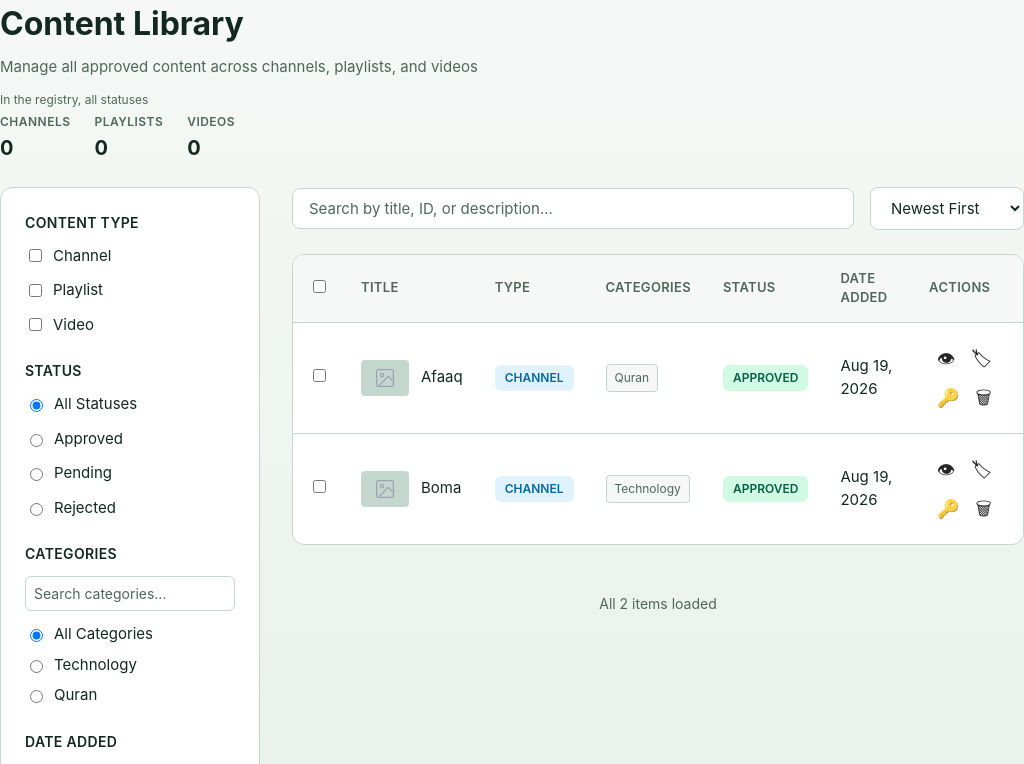
Test: ContentLibraryView — Assign Categories modal › marks a category held by only some of the selected items as indeterminate
The width and height of the screenshot is (1024, 764).
Click the checkbox next to "Afaaq": (320, 376) [313,369,326,382]
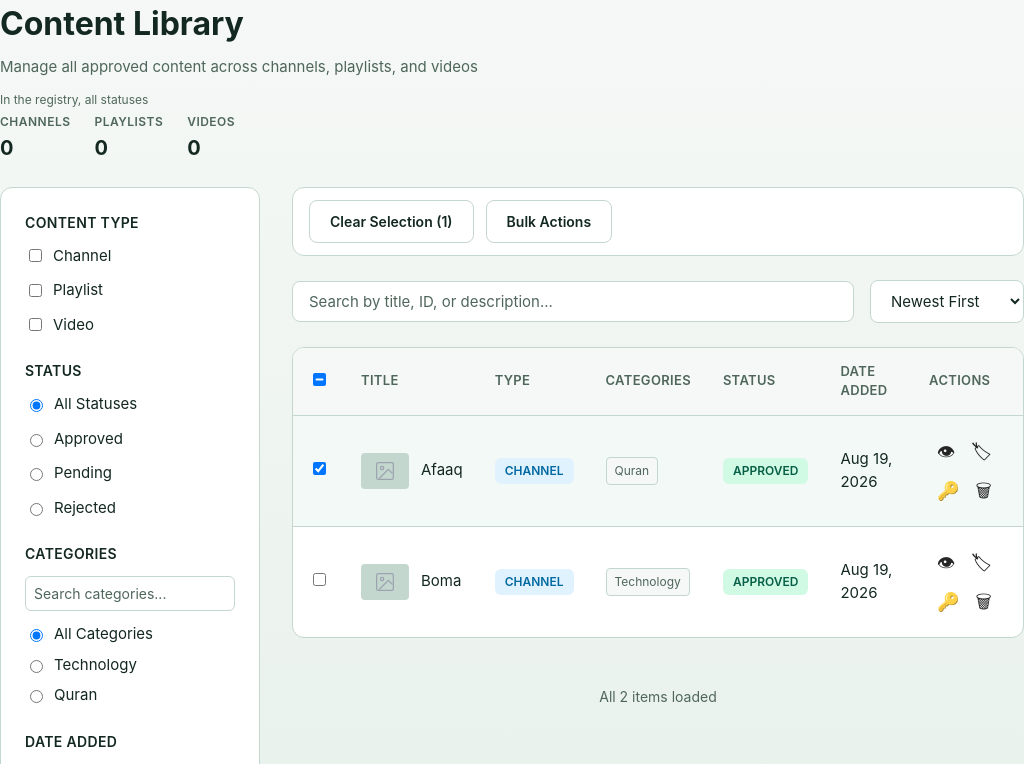
Click the checkbox next to "Boma": (320, 580) [313,573,326,586]
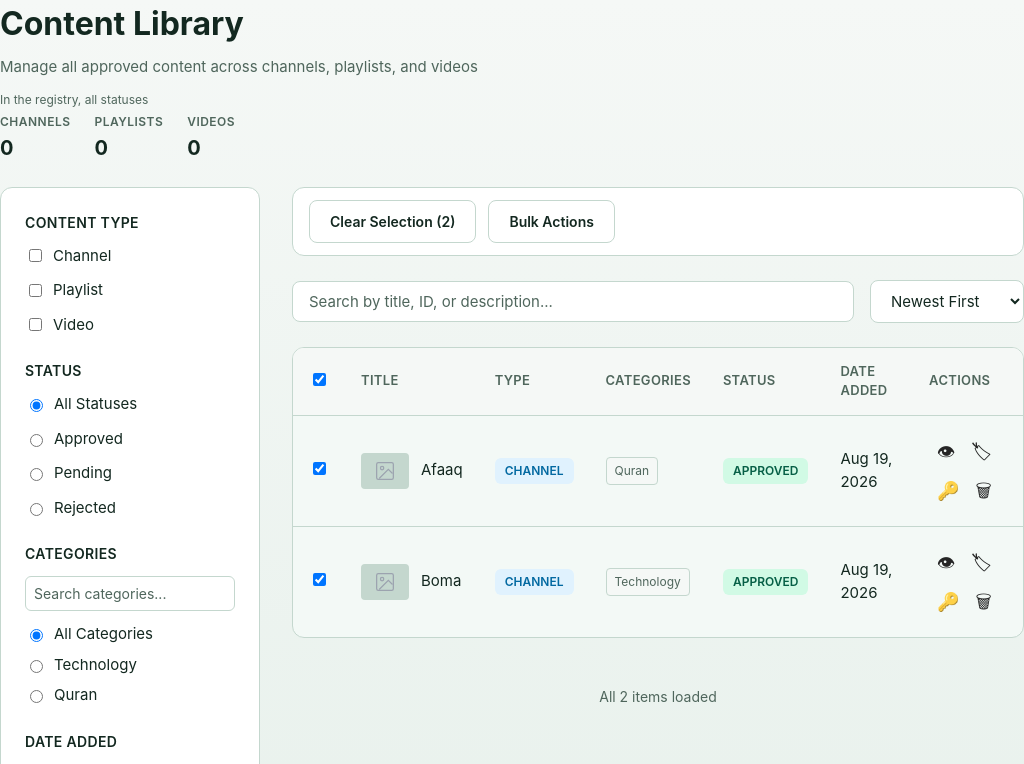
Click the button "Bulk Actions": (552, 221) [488,200,615,242]
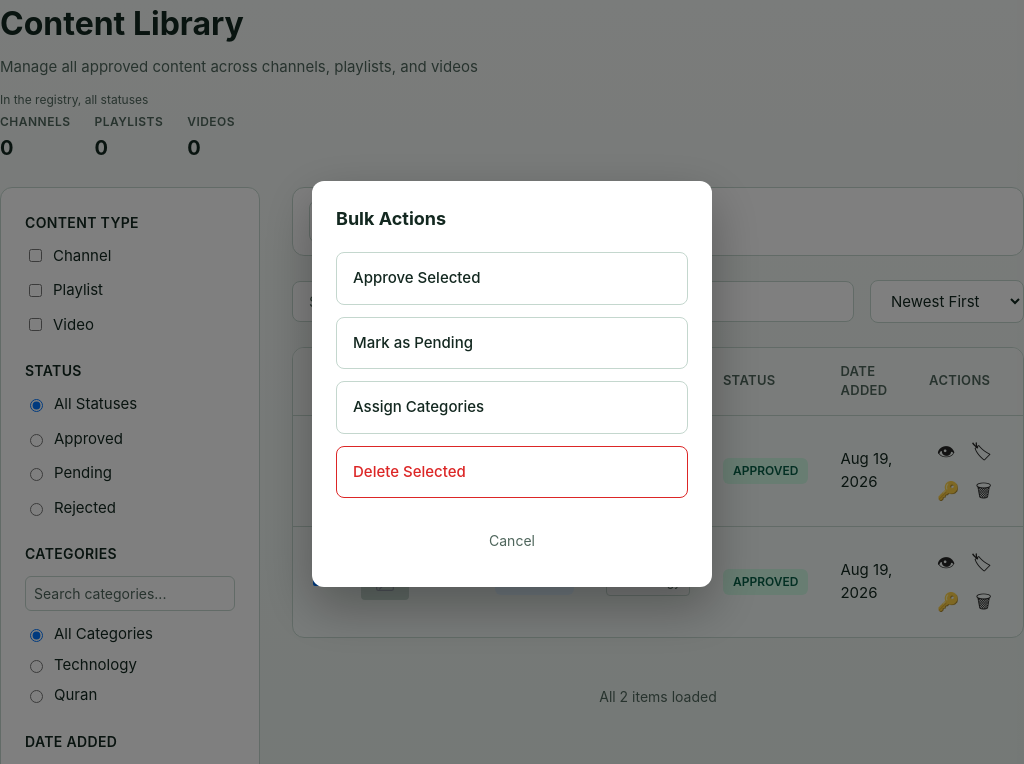
Click the button "Assign Categories": (419, 406) [336,381,688,434]
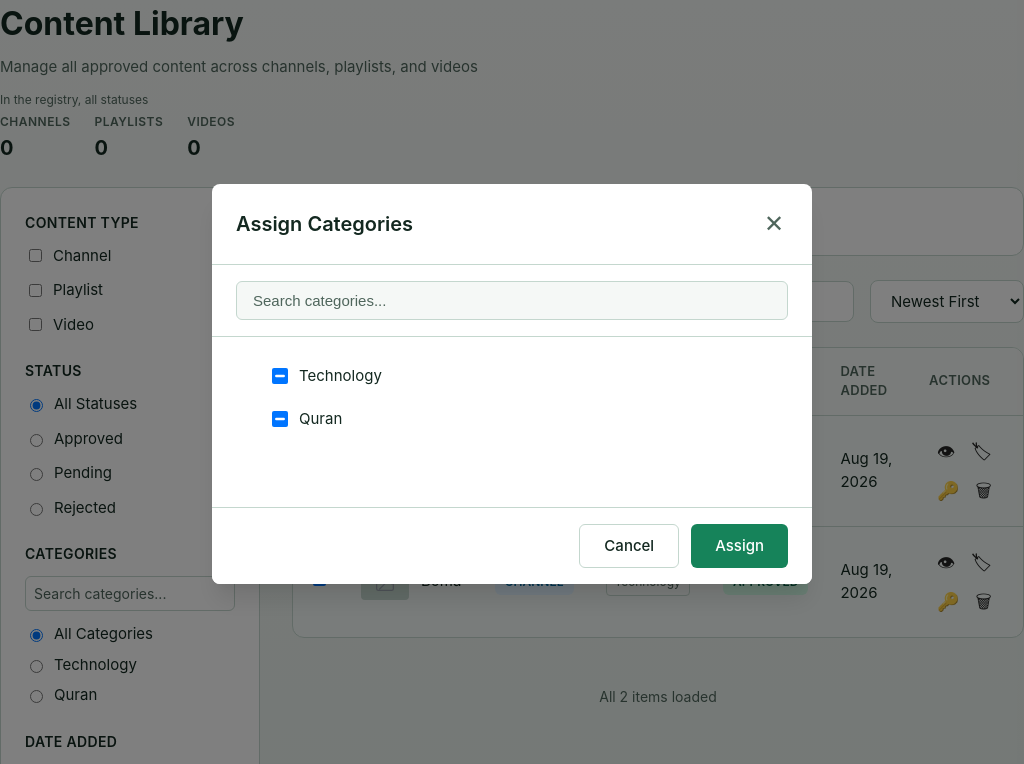
Now the text "Technology" is shown, box [299,365,382,388]
